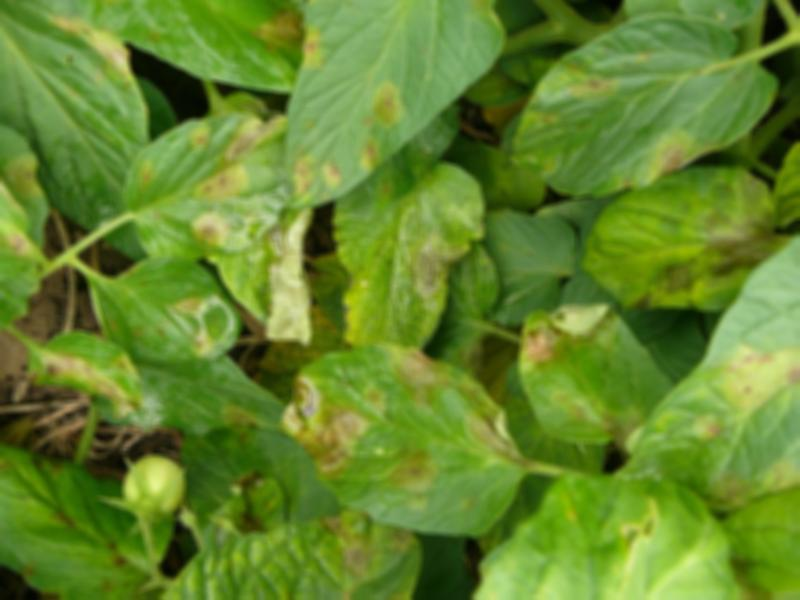Tomato Early blight leaf: (508, 27, 779, 209), (285, 355, 516, 536), (338, 131, 483, 356), (564, 166, 800, 304), (130, 114, 293, 263), (523, 300, 659, 471)
